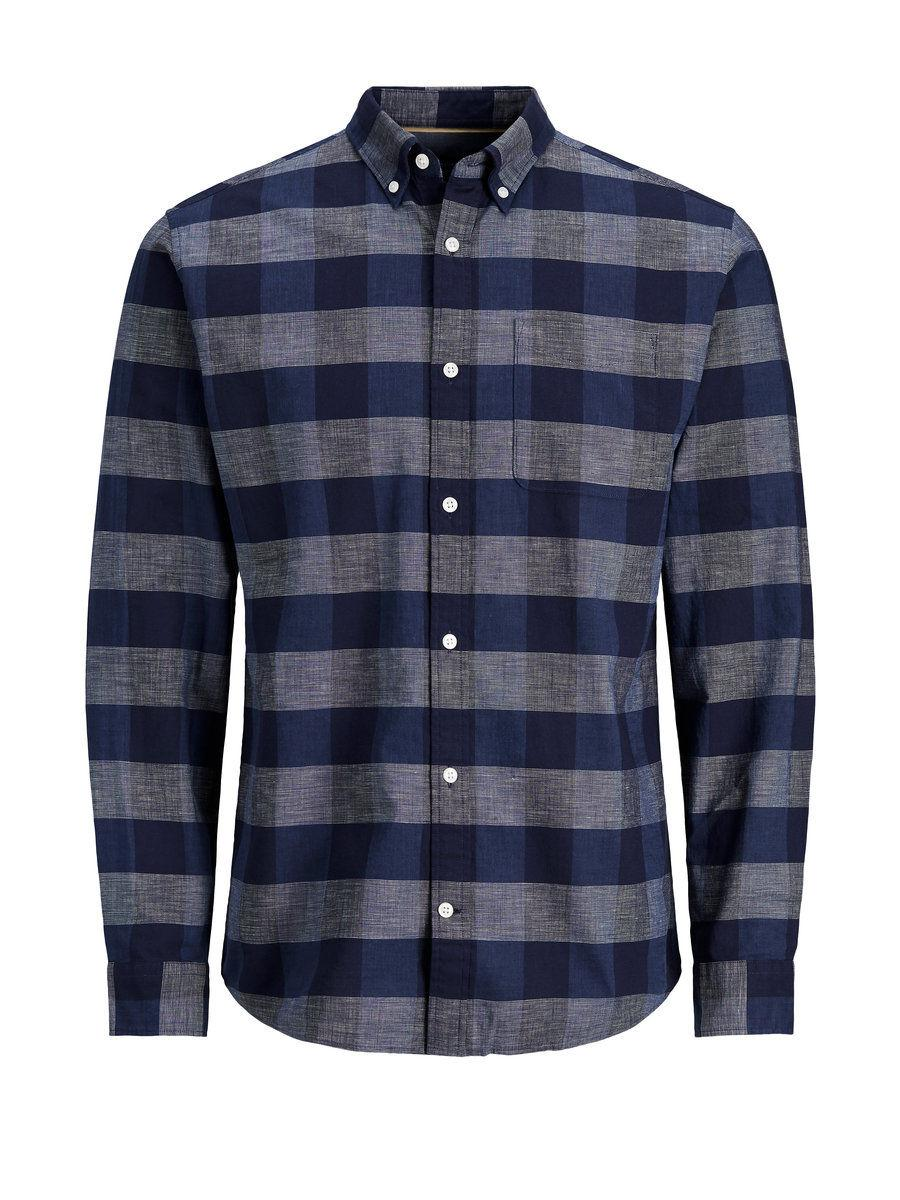teeshirt: (60, 69, 814, 1034)
